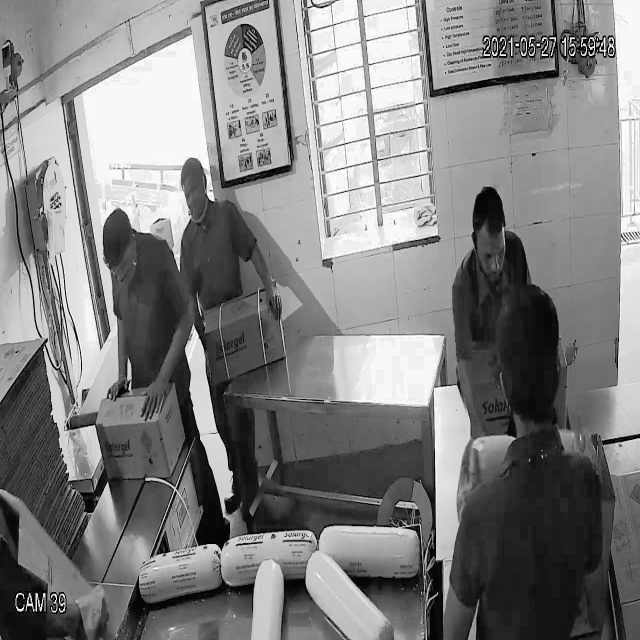Sin_gafas: (474, 236, 511, 270)
